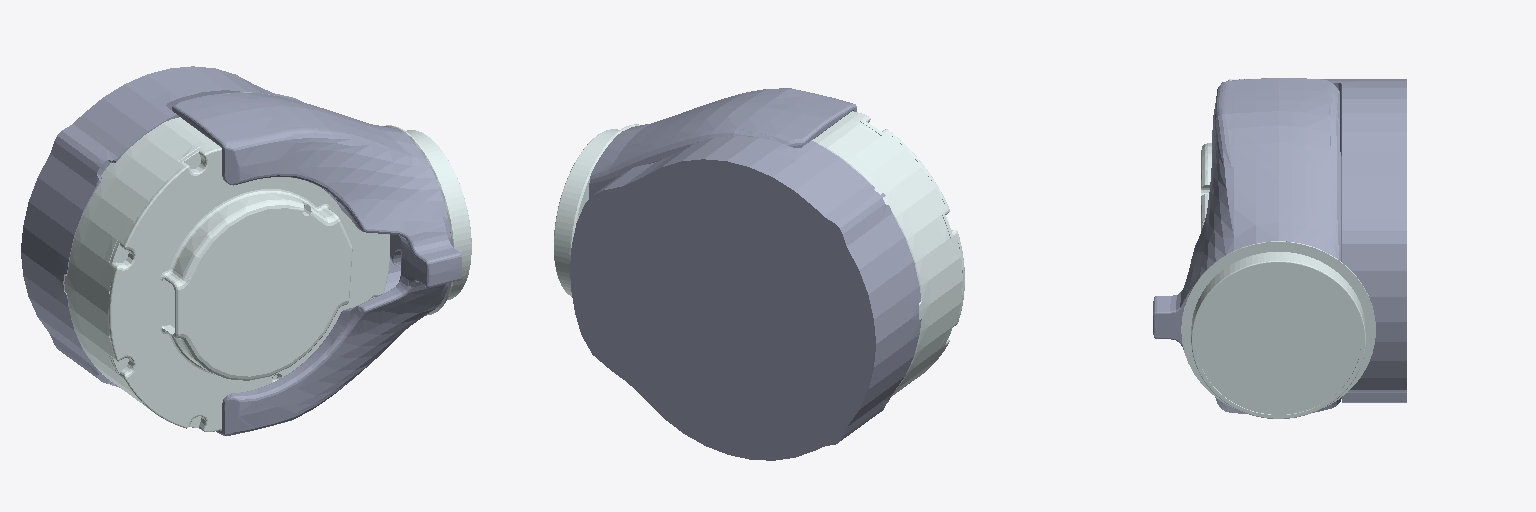
File: hip.obj
3 renders of one model, left to right at view 1: azimuth 30°, elevation 25°; view 2: azimuth 150°, elevation 25°; view 3: azimuth 270°, elevation 25°, orthographic.
Visible parts, largest first — view 1: hipFL0831; view 2: hipFL0831; view 3: hipFL0831.
Part boxes in pixels (x1,y1,x2,y2): hipFL0831: (21,66,471,435); hipFL0831: (554,88,964,460); hipFL0831: (1153,78,1406,418).
Bounding box in the file's own units: 0.1181 × 0.0985 × 0.0756.